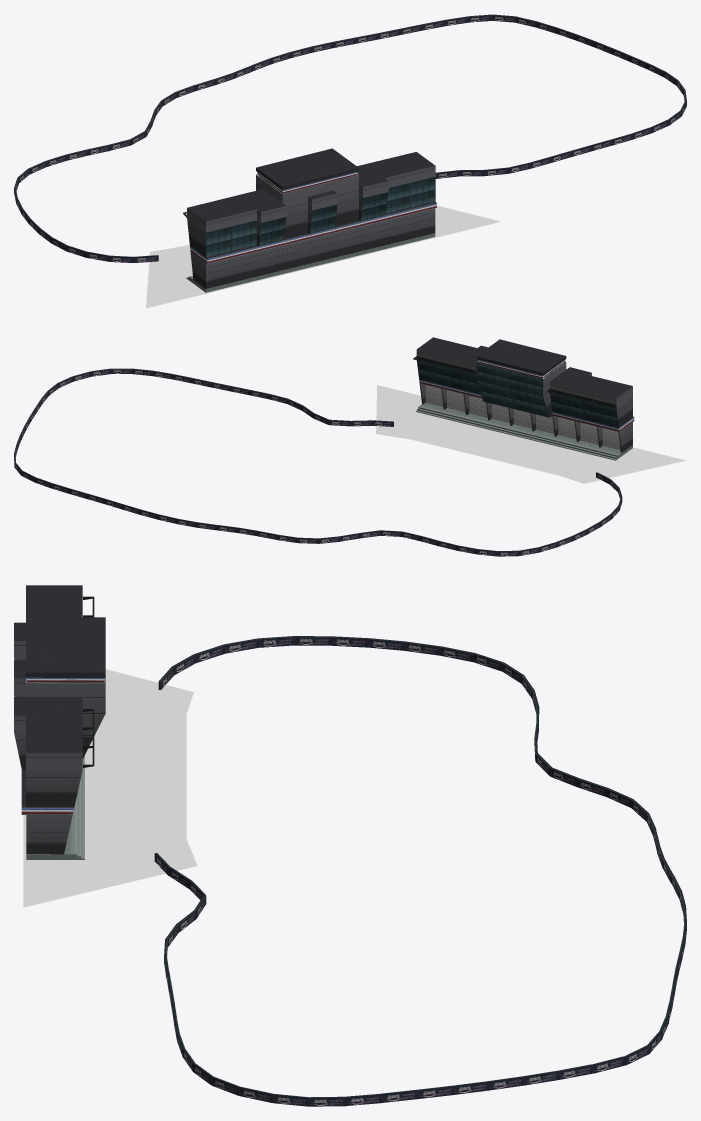
File: July_2020_collision.dae
3 renders of one model, top to bottom at view 1: azimuth 30°, elevation 25°; view 2: azimuth 150°, elevation 25°; view 3: azimuth 270°, elevation 25°, orthographic. The views are drawn at different scales.
Parts seen in each view (by area): view 1: pit_stop, barrier, pit_base; view 2: pit_stop, pit_base, barrier; view 3: pit_base, pit_stop, barrier.
Boxes of the visible parts, x1=… form: pit_stop: x1=183, y1=148, x2=436, y2=292; barrier: x1=14, y1=14, x2=686, y2=262; pit_base: x1=146, y1=205, x2=500, y2=308; pit_stop: x1=413, y1=337, x2=634, y2=460; pit_base: x1=376, y1=385, x2=686, y2=483; barrier: x1=14, y1=368, x2=622, y2=556; pit_base: x1=23, y1=669, x2=197, y2=907; pit_stop: x1=14, y1=585, x2=105, y2=859; barrier: x1=154, y1=636, x2=686, y2=1106.
Size of what is drawn, in the model's own units: 21.06 by 12.95 by 2.81.
2 materials, 2 textured.
